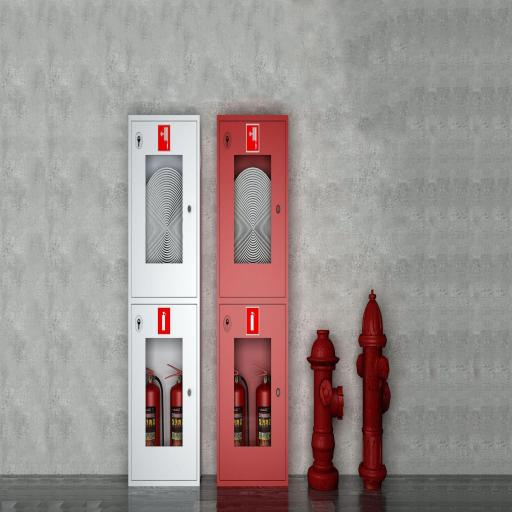fire_hose: (127, 106, 200, 495), (217, 109, 290, 492)
